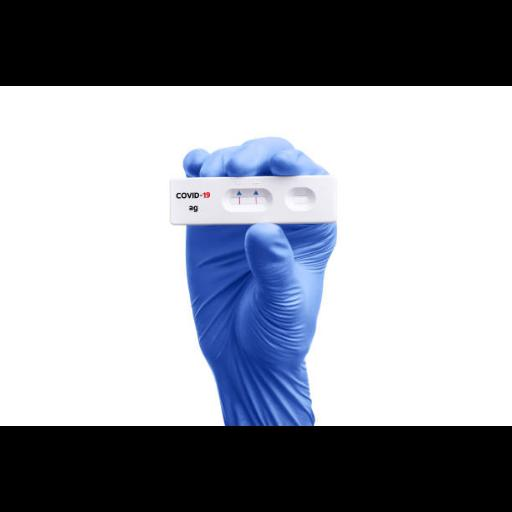Pos: (170, 178, 336, 218)
